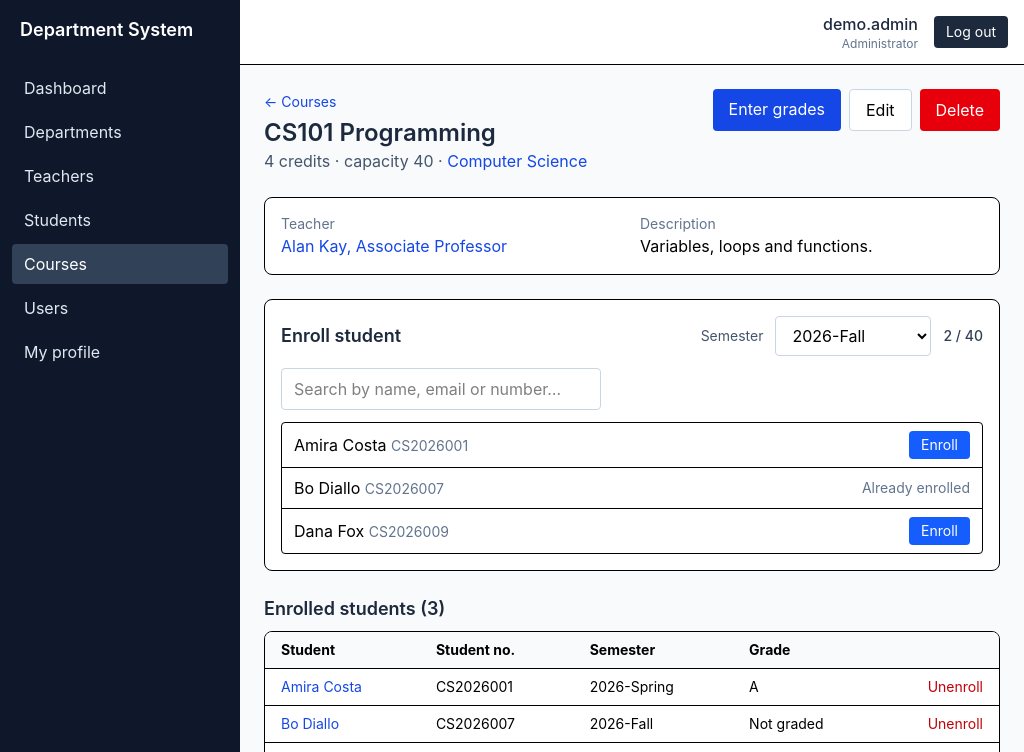
errors are shown clearly › inactive student: the server message is shown in the panel
The width and height of the screenshot is (1024, 752).
Step 1. Click the button with aria-label "Enroll Dana Fox" → (940,531), box left=909, top=517, right=970, bottom=545
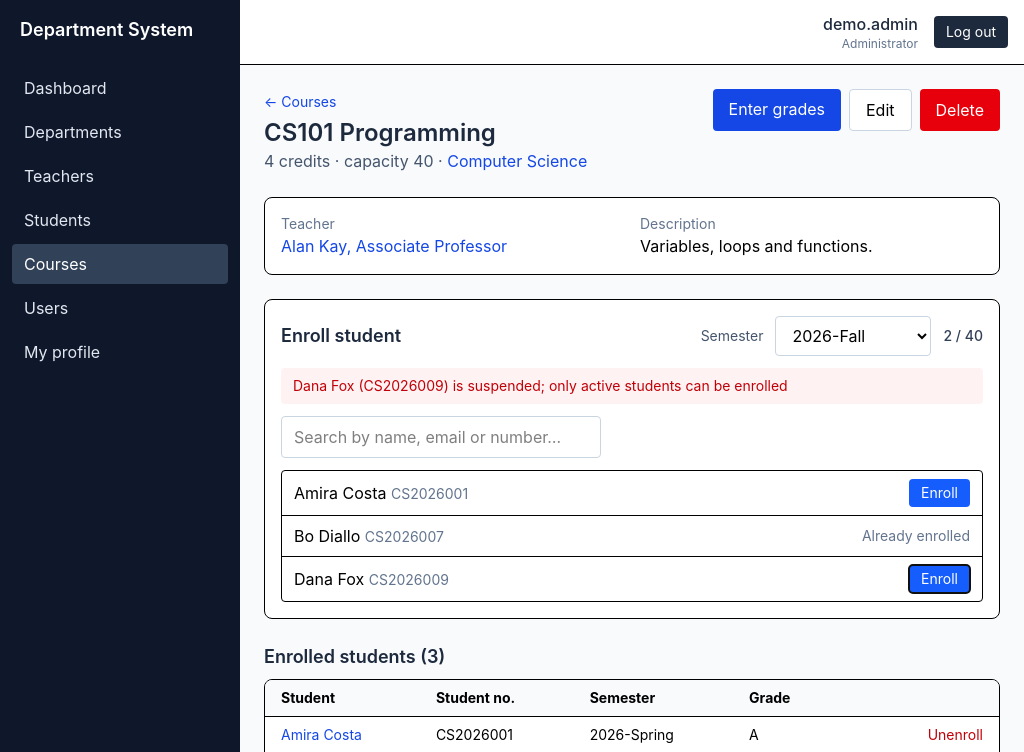
Now the message reads "Dana Fox (CS2026009) is suspended; only active students can be enrolled", box left=293, top=377, right=788, bottom=394
